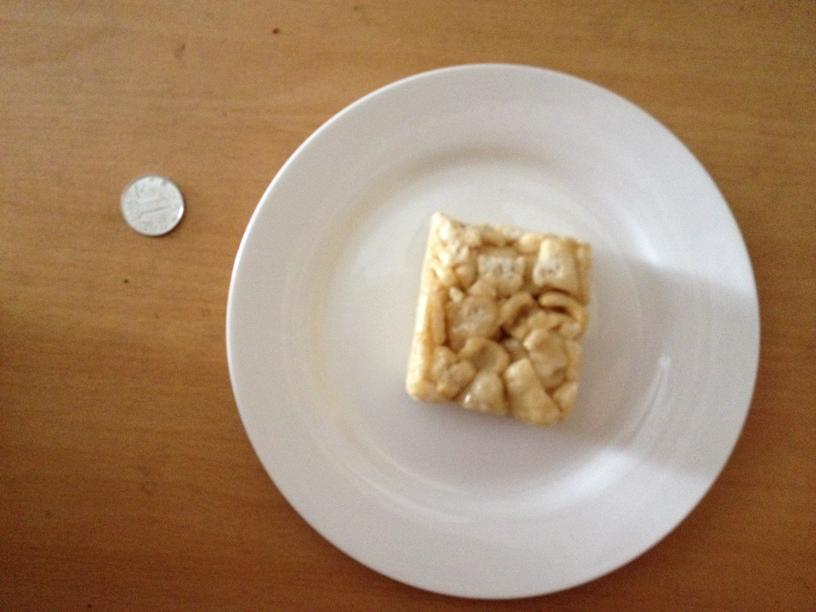coin: (120, 175, 184, 235)
sachima: (404, 210, 592, 425)
